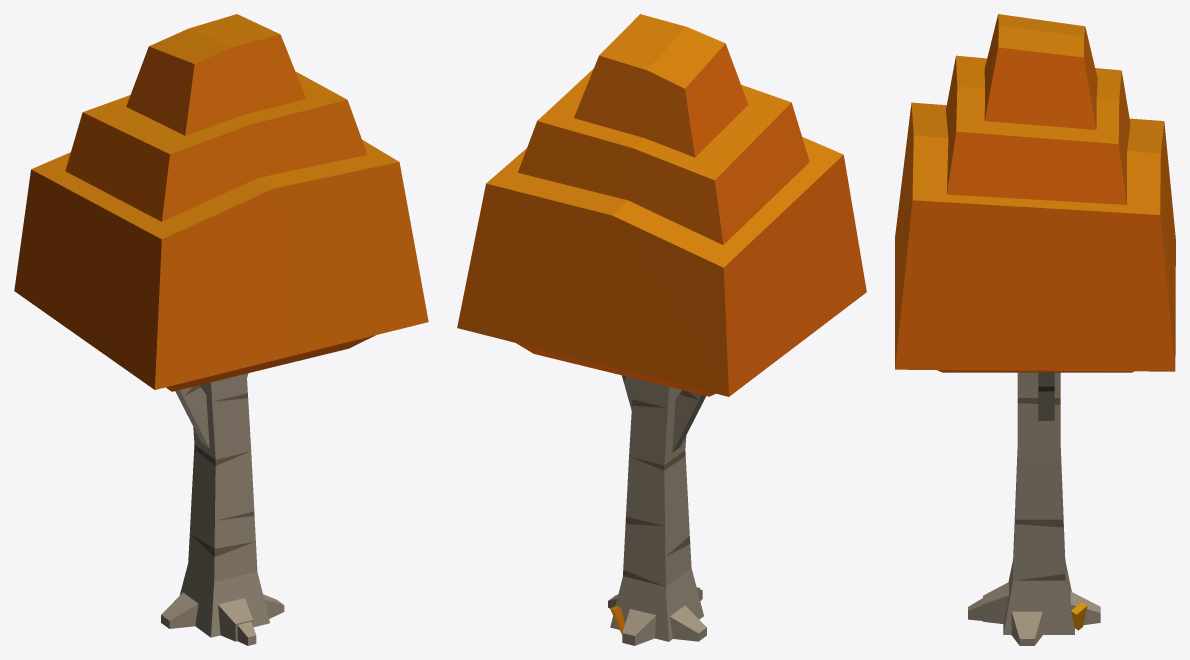
The model's file is SF_Env_Tree_Fall_05.fbx.
3 renders of one model, left to right at view 1: azimuth 30°, elevation 25°; view 2: azimuth 150°, elevation 25°; view 3: azimuth 270°, elevation 25°, orthographic.
Visible parts, largest first — view 1: SF_Env_Tree_Fall_05; view 2: SF_Env_Tree_Fall_05; view 3: SF_Env_Tree_Fall_05.
Part boxes in pixels (x1,y1,x2,y2): SF_Env_Tree_Fall_05: (14, 14, 428, 645); SF_Env_Tree_Fall_05: (457, 14, 866, 645); SF_Env_Tree_Fall_05: (895, 14, 1175, 645).
Bounding box in the file's own units: 3.53 × 7.26 × 3.11.
